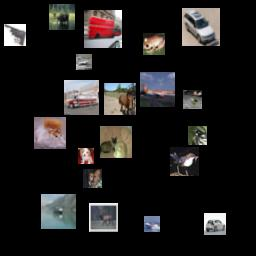airplane: (140, 72, 175, 107), (4, 24, 26, 46), (76, 54, 92, 70)
automobile: (182, 8, 220, 46), (204, 213, 226, 235)
bird: (170, 147, 199, 176), (188, 126, 207, 145), (183, 90, 202, 109)
cat: (34, 117, 66, 149), (100, 126, 132, 158)
deer: (89, 203, 118, 232), (49, 4, 75, 30)
dog: (83, 169, 102, 188), (78, 148, 94, 164)
frog: (143, 33, 165, 55)
ship: (41, 194, 76, 229), (144, 216, 160, 232)
truck: (84, 10, 122, 48), (64, 80, 99, 115)
